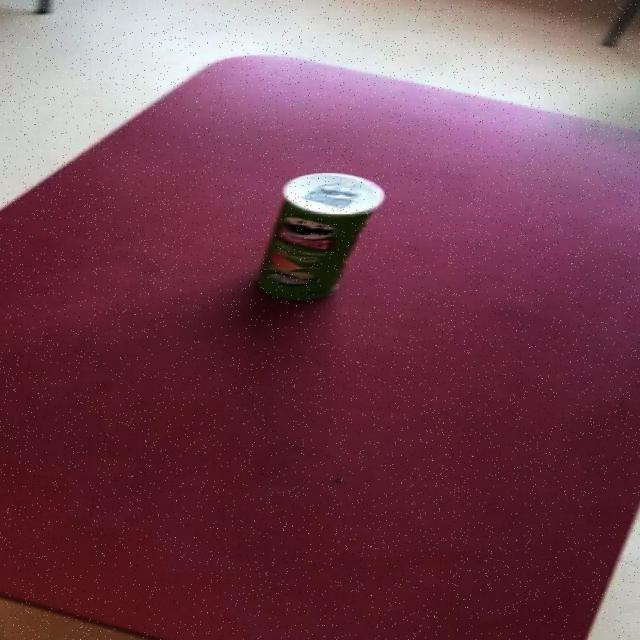Pringles: (254, 171, 384, 301)
